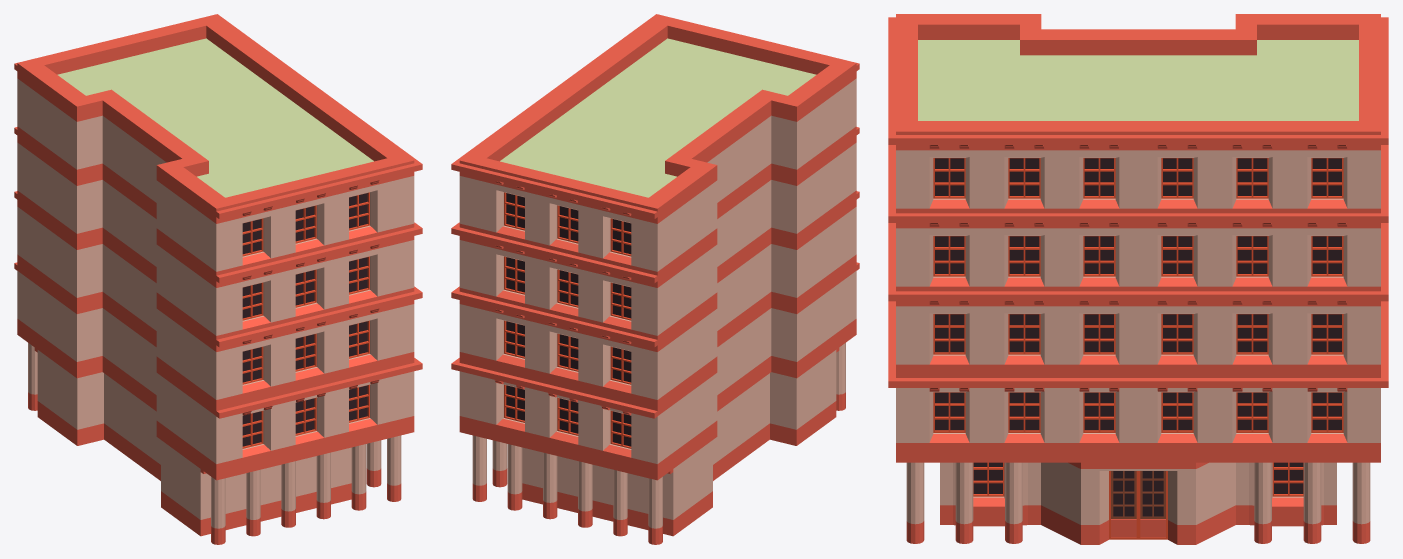
The model's file is building_2.glb.
3 renders of one model, left to right at view 1: azimuth 30°, elevation 25°; view 2: azimuth 150°, elevation 25°; view 3: azimuth 270°, elevation 25°, orthographic. The views are drawn at different scales.
Parts seen in each view (by area): view 1: PublicBuilding_10; view 2: PublicBuilding_10; view 3: PublicBuilding_10.
Part boxes in pixels (x1,y1,x2,y2): PublicBuilding_10: (14,14,422,544); PublicBuilding_10: (451,14,859,544); PublicBuilding_10: (888,14,1388,544).
Size of the model in its own units: 4.32 by 6.93 by 7.56.
1 material, 1 textured.
